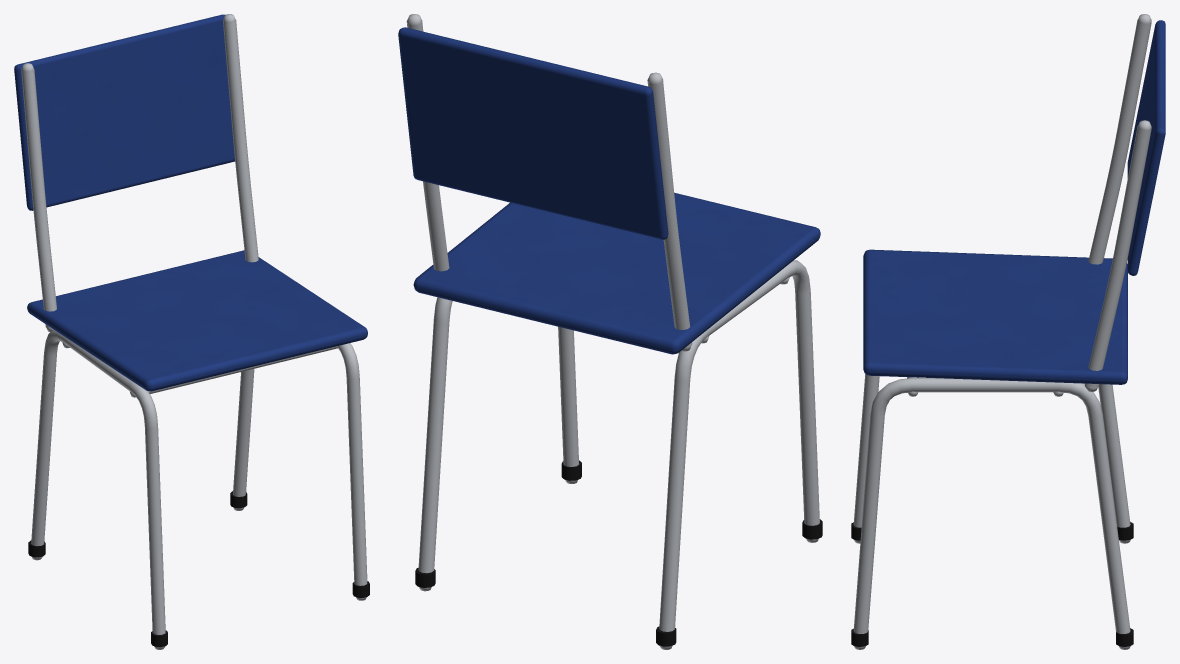
The model's file is silla.glb.
The picture shows the model from 3 angles, left to right: view 1: azimuth 30°, elevation 25°; view 2: azimuth 150°, elevation 25°; view 3: azimuth 270°, elevation 25°; orthographic projection. The views are drawn at different scales.
Visible parts, largest first — view 1: silla; view 2: silla; view 3: silla.
Boxes of the visible parts, <box> form: silla: <box>14,14,369,649</box>; silla: <box>398,14,822,649</box>; silla: <box>851,14,1165,649</box>.
Bounding box in the file's own units: 0.42 × 0.882 × 0.4753.
Materials: 3 (1 with a texture image).
